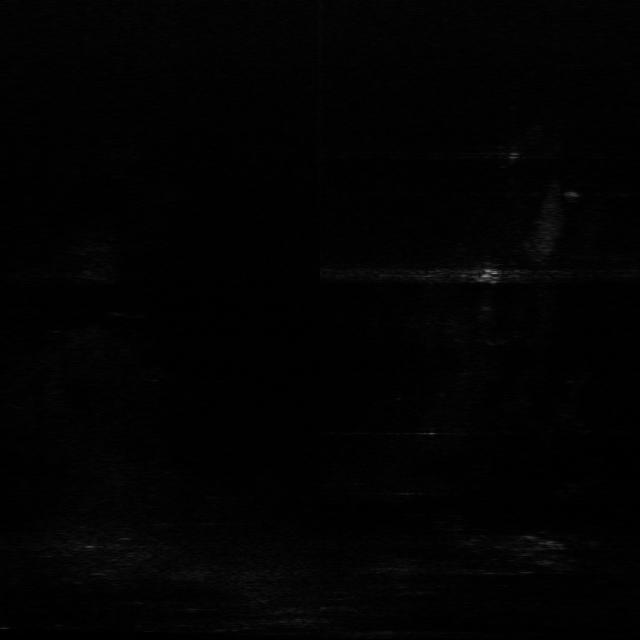rov: (477, 264, 502, 288)
